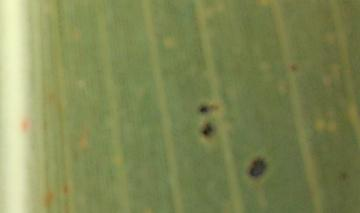tarspot: (248, 156, 266, 178), (202, 120, 213, 138), (196, 103, 209, 115), (287, 60, 299, 73), (338, 170, 349, 182)
